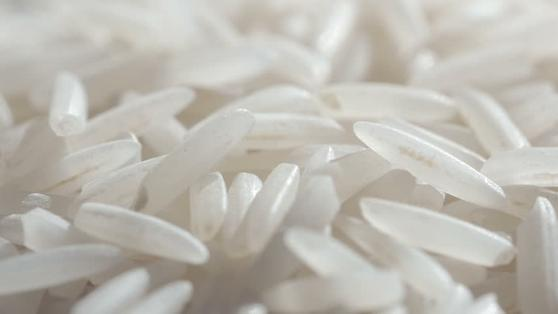rice: (30, 21, 520, 298)
